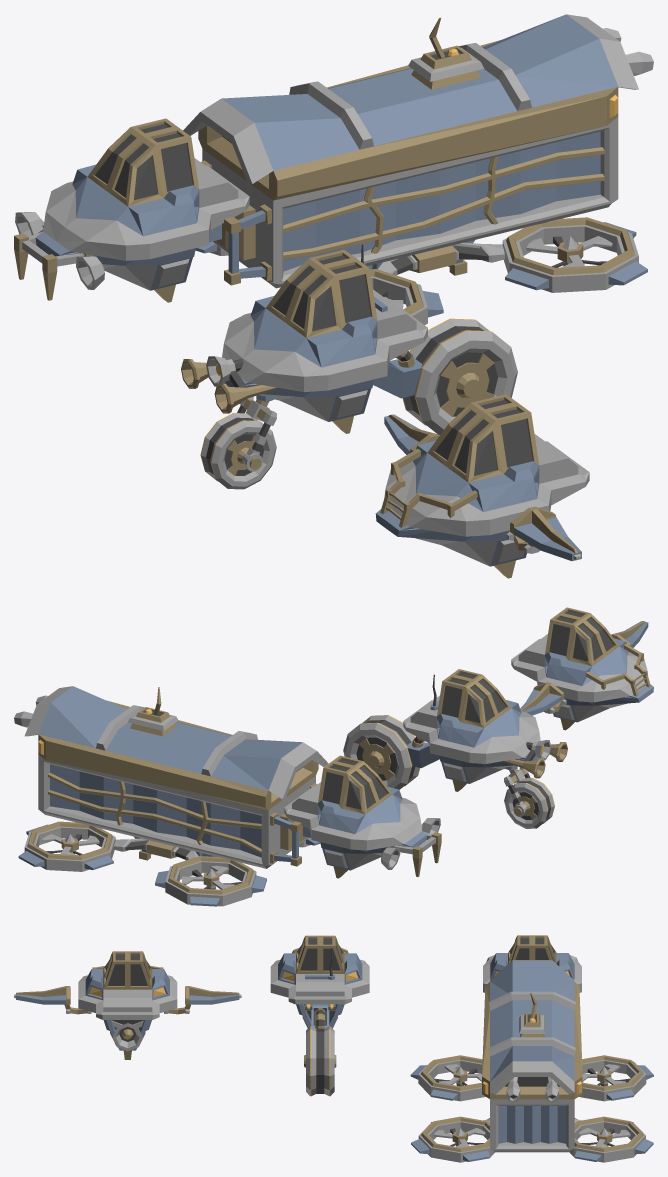
File: Vehicle.fbx
3 renders of one model, top to bottom at view 1: azimuth 30°, elevation 25°; view 2: azimuth 150°, elevation 25°; view 3: azimuth 270°, elevation 25°, orthographic. The views are drawn at different scales.
Parts seen in each view (by area): view 1: Vehicle_1, Vehicle_2, Vehicle_3, Wheel_2, Wheel_1, Fan_2; view 2: Vehicle_1, Vehicle_2, Vehicle_3, Wheel_2, Wheel_1, Fan_3, Fan_4; view 3: Vehicle_1, Vehicle_3, Vehicle_2, Wheel_2, Fan_2, Fan_4, Fan_3, Fan_1.
Boxes of the visible parts, <box> form: Vehicle_1: <box>14,14,653,324</box>; Vehicle_2: <box>181,244,427,455</box>; Vehicle_3: <box>375,394,589,578</box>; Wheel_2: <box>402,318,517,434</box>; Wheel_1: <box>200,413,276,489</box>; Fan_2: <box>526,236,612,267</box>; Vehicle_1: <box>14,686,441,906</box>; Vehicle_2: <box>403,669,567,806</box>; Vehicle_3: <box>511,607,653,730</box>; Wheel_2: <box>343,715,419,789</box>; Wheel_1: <box>504,778,554,828</box>; Fan_3: <box>182,865,242,889</box>; Fan_4: <box>42,834,99,855</box>; Vehicle_1: <box>410,935,653,1162</box>; Vehicle_3: <box>14,951,241,1059</box>; Vehicle_2: <box>270,935,369,1028</box>; Wheel_2: <box>304,1026,336,1096</box>; Fan_2: <box>434,1128,485,1147</box>; Fan_4: <box>579,1128,630,1147</box>; Fan_3: <box>582,1064,631,1086</box>; Fan_1: <box>433,1064,481,1086</box>.
Size of the model in its own units: 172 by 66.36 by 263.
